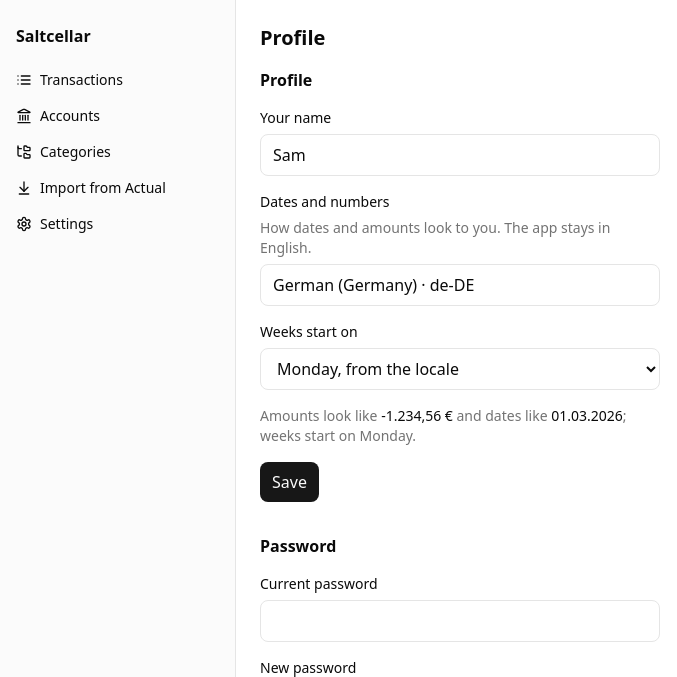
Settings › Profile › starts weeks on the chosen day, and goes back to the browser's ways
Select "Saturday" in the dropdown with id "week_start" at (460,369), box [260,348,660,390]
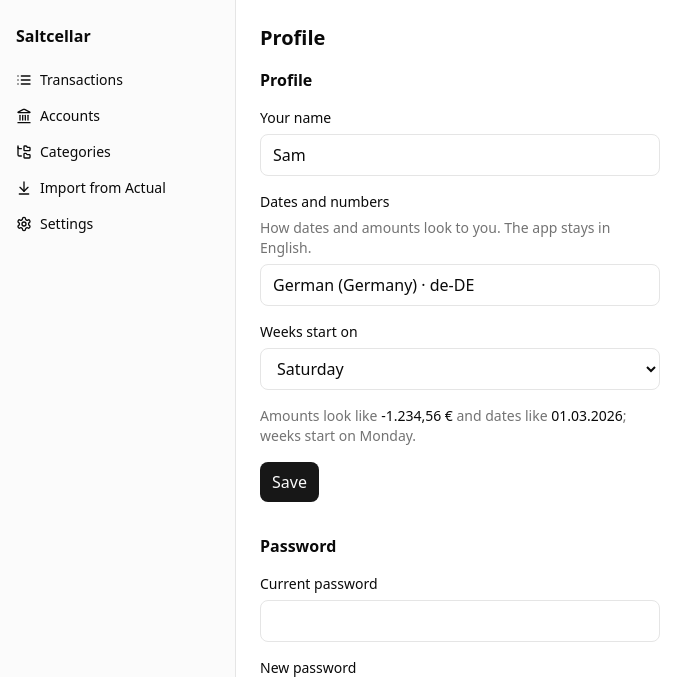
Submit the form that starts with "Your name", box [260,108,660,502]
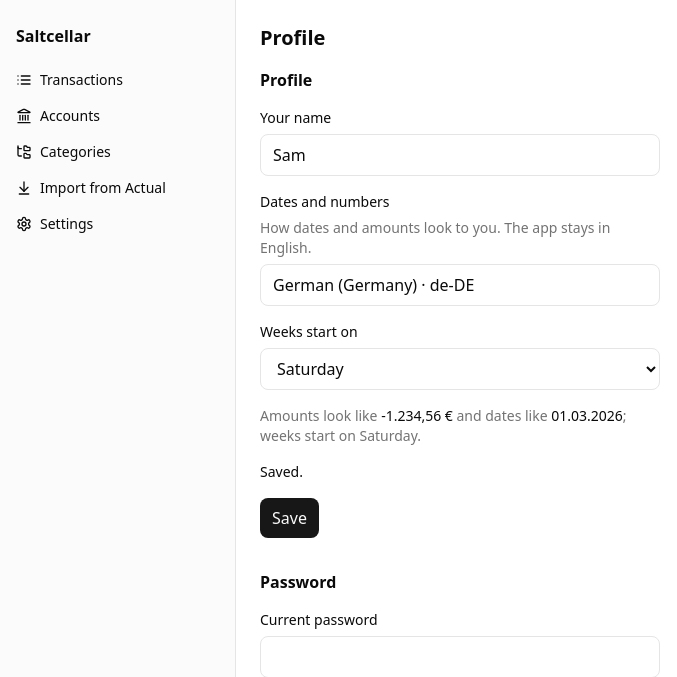
Expected: the element with test id "format-example" shows "weeks start on Saturday", [260,406,627,445]
Replace the text in the dropdown with id "display_locale" with "browser" at (460,285), box [260,264,660,306]
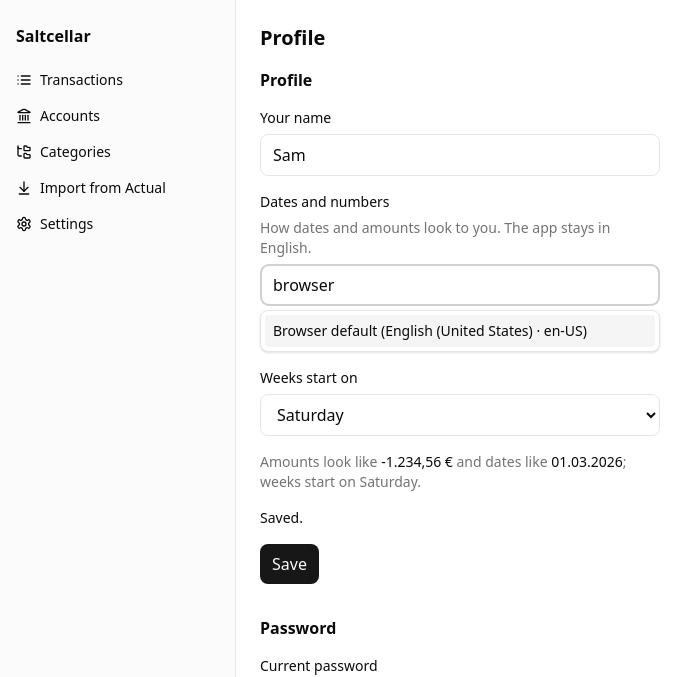
Click the option "Browser default (English (United States) · en-US)".
click(460, 331)  # box [265,315,655,347]
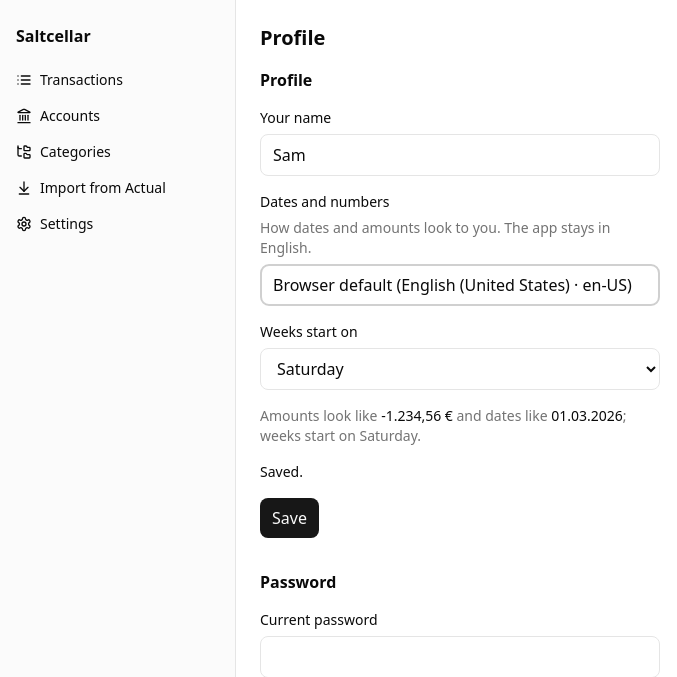
Select "Sunday, from the locale" in the dropdown with id "week_start" at (460,369), box [260,348,660,390]
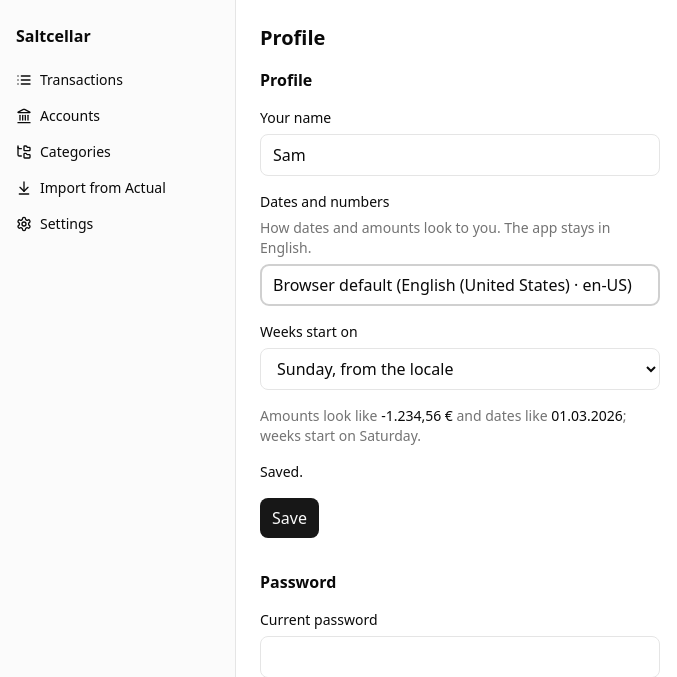
Submit the form that starts with "Your name", box [260,108,660,538]
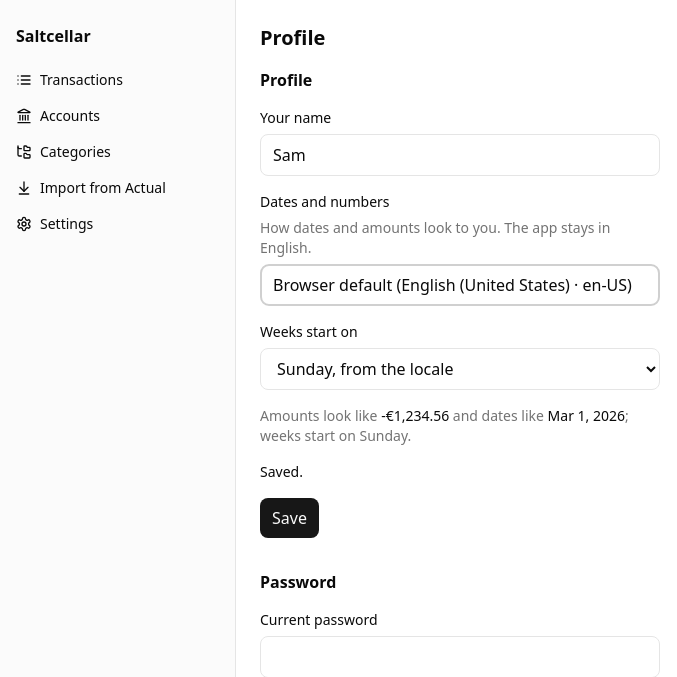
Expected: the element with test id "format-example" shows "-€1,234.56", [381,406,449,425]
